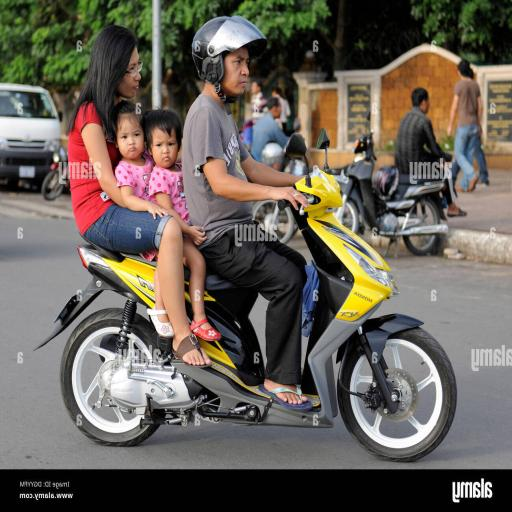overloading: (34, 128, 458, 462), (63, 12, 321, 408)
